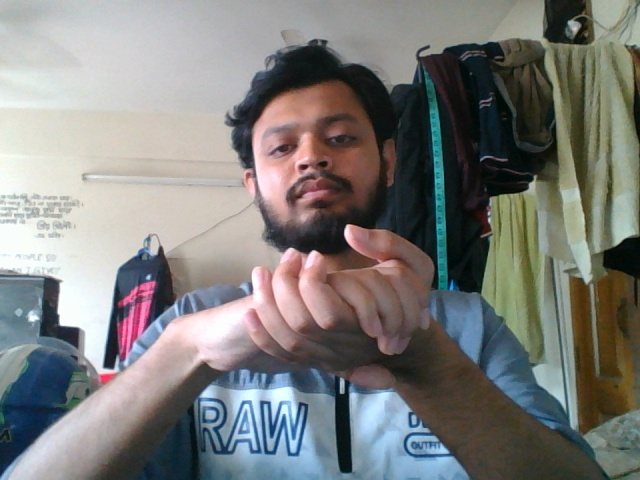bondhu: (119, 217, 531, 409)
